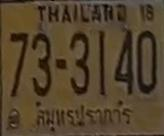0: (136, 29, 156, 91)
1: (98, 30, 104, 95)
3: (30, 33, 52, 95), (69, 31, 89, 94)
4: (114, 28, 133, 94)
7: (9, 32, 28, 97)
SPK: (34, 105, 134, 134)
